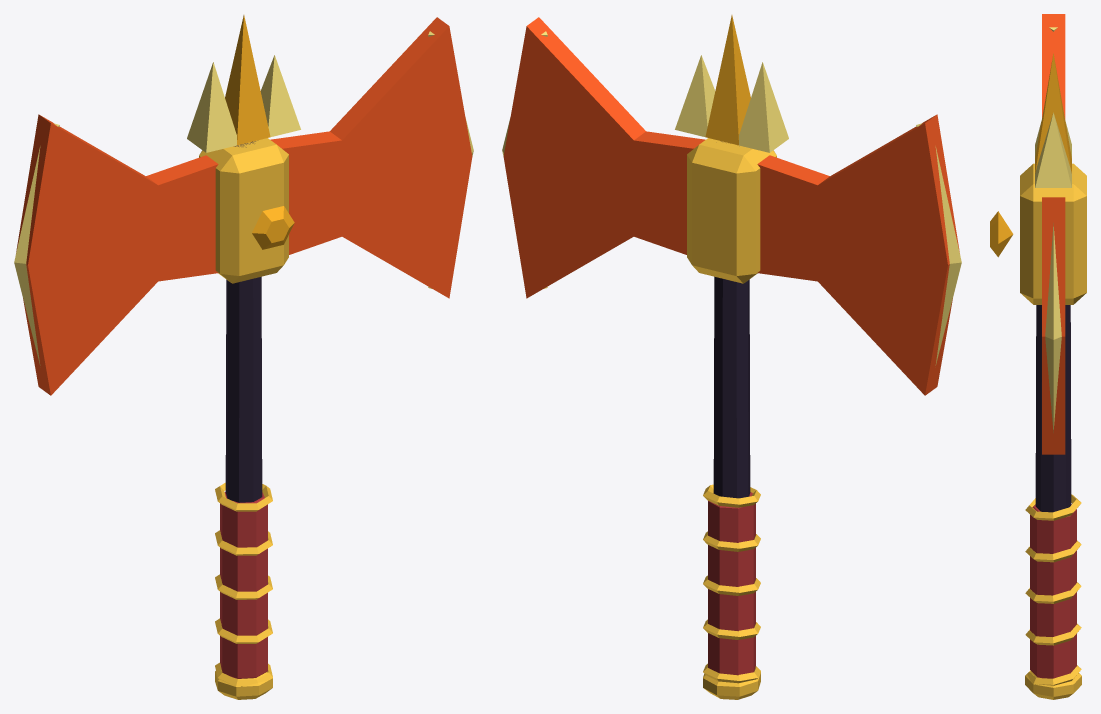
The model's file is FlameAxe.fbx.
The picture shows the model from 3 angles, left to right: view 1: azimuth 30°, elevation 25°; view 2: azimuth 150°, elevation 25°; view 3: azimuth 270°, elevation 25°; orthographic projection. The views are drawn at different scales.
Parts seen in each view (by area): view 1: FlameAxe; view 2: FlameAxe; view 3: FlameAxe.
Part boxes in pixels (box(x1,y1,x2,y2)): FlameAxe: box(14, 15, 473, 699); FlameAxe: box(502, 15, 961, 699); FlameAxe: box(990, 14, 1086, 699).
Bounding box in the file's own units: 3 × 4.22 × 0.58.
1 material, 1 textured.
